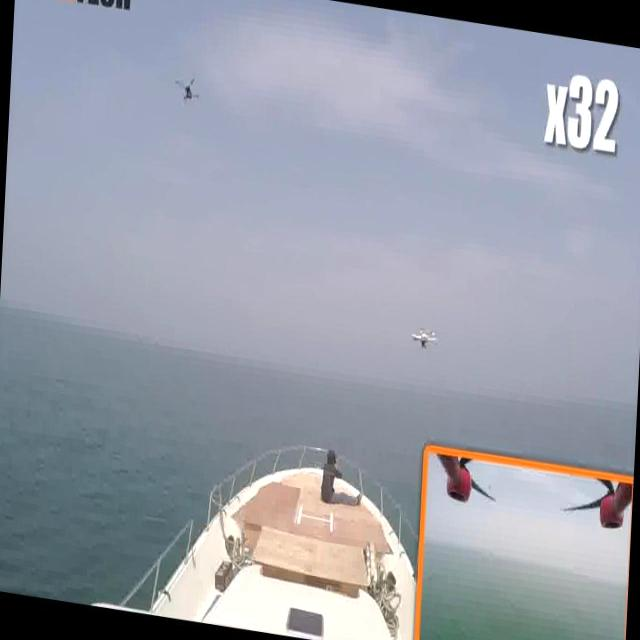drone: (170, 66, 208, 112), (406, 315, 442, 357)
